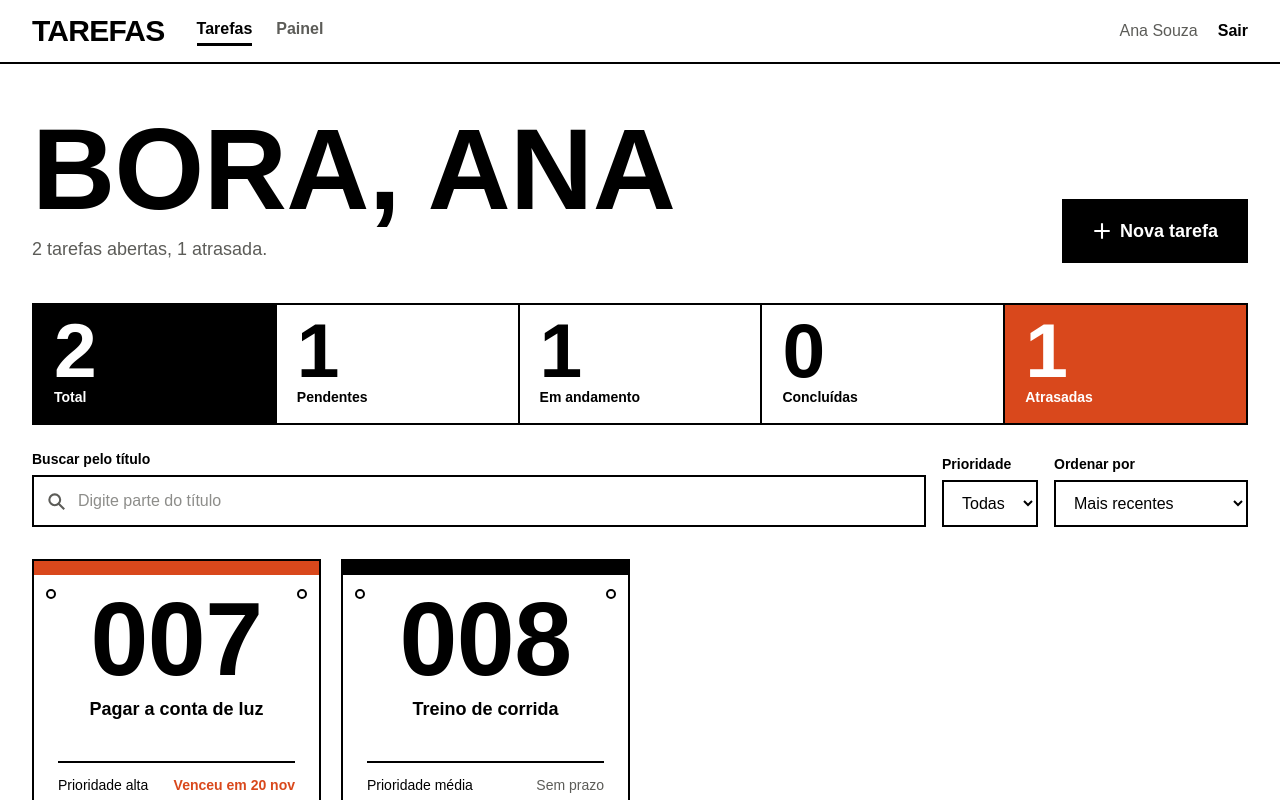
Test case: página de tarefas › não deixa enviar sem título e fecha com Esc
Step 1. Click the button "Nova tarefa" → (1155, 231), box [1062,199,1248,263]
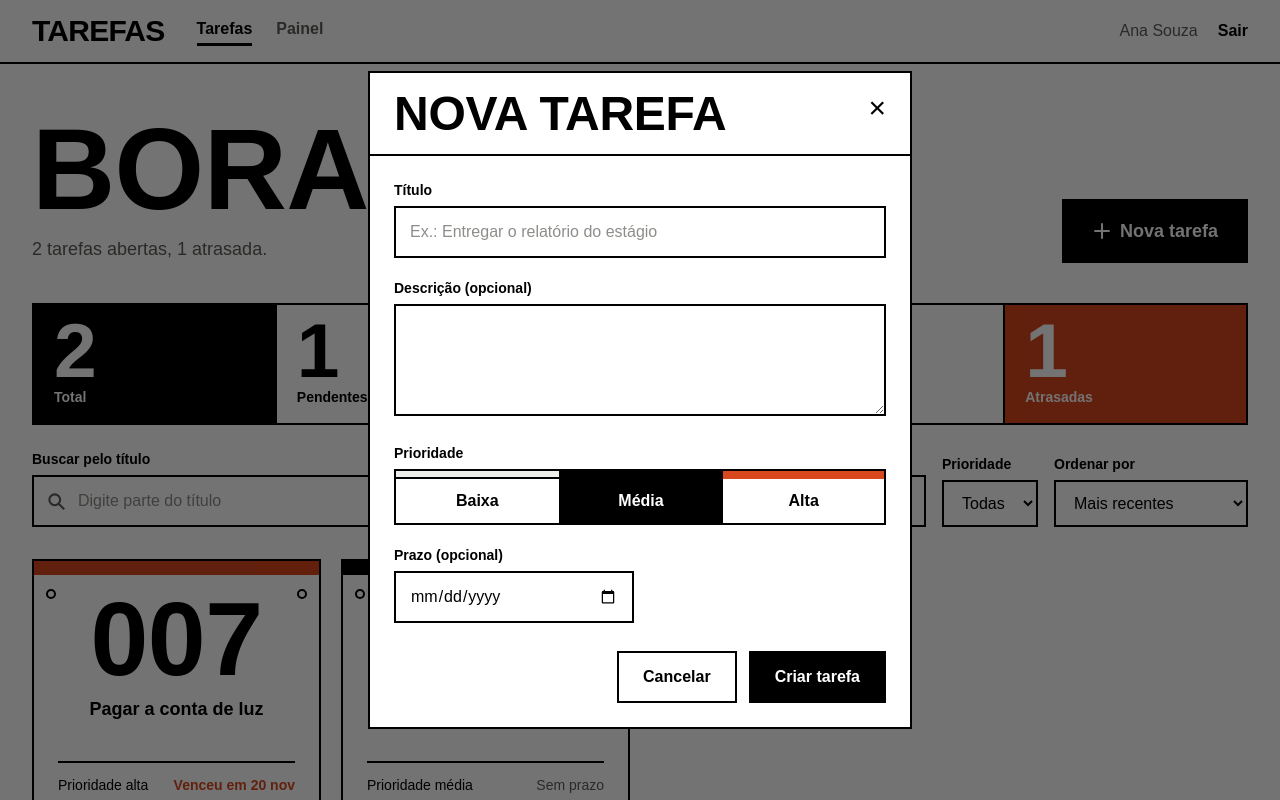
Step 2. Click the button "Criar tarefa" → (817, 677), box [749,651,886,703]
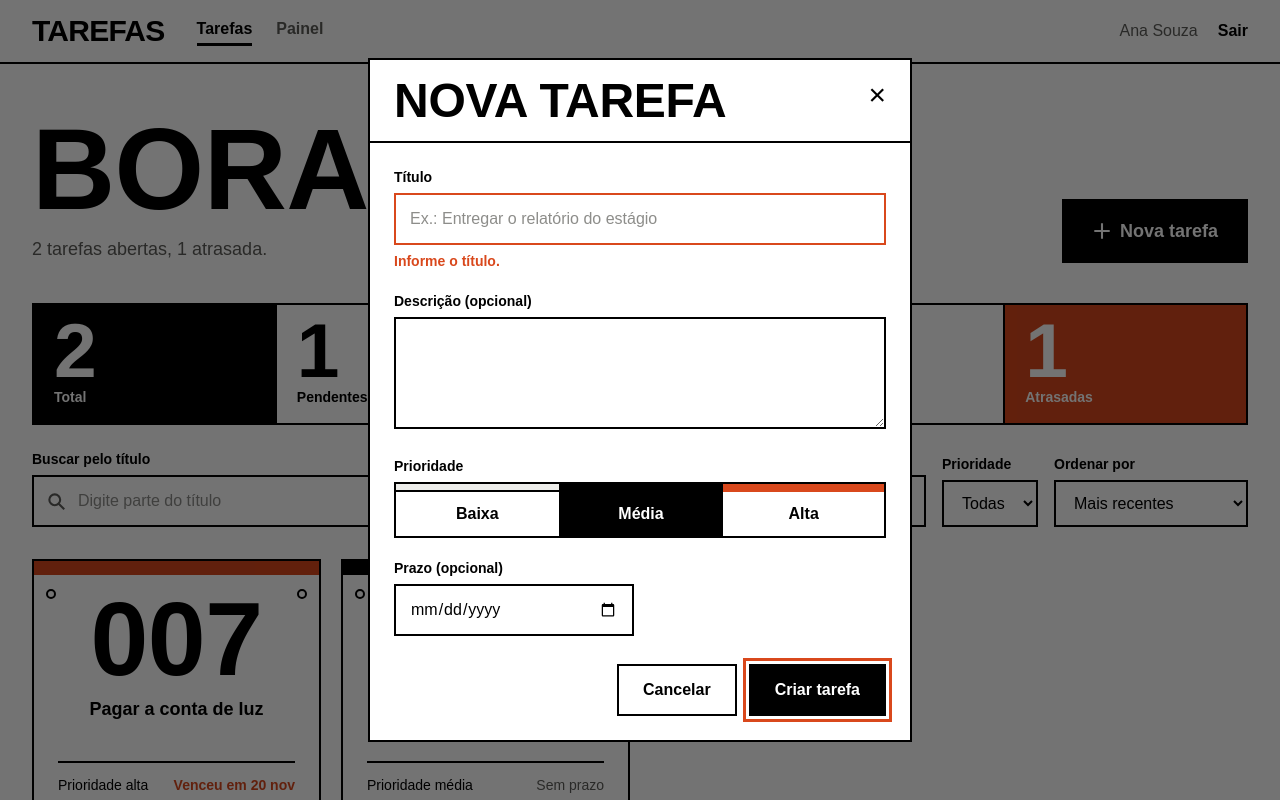
Expected: the text "Informe o título." is shown, [394,253,500,269]
Step 3. Press Escape
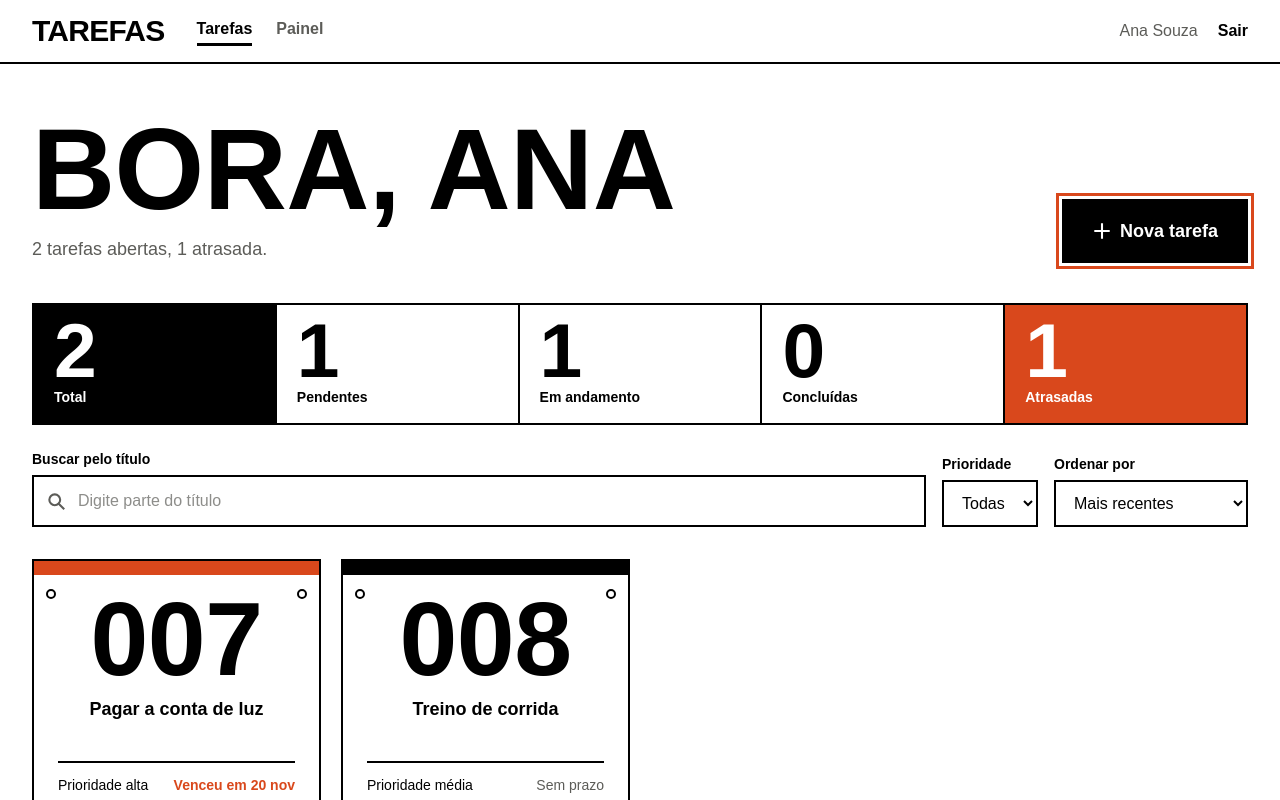
Expected: the dialog is gone
